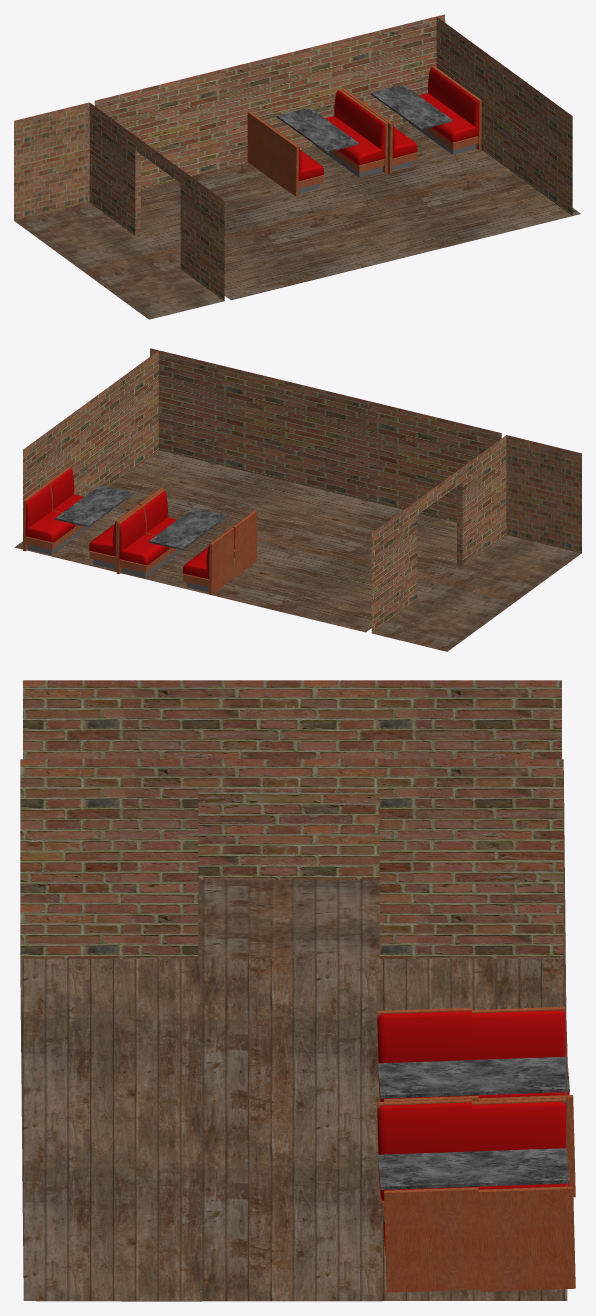
The model's file is room4.glb.
3 views of the same model, one above another, from view 1: azimuth 30°, elevation 25°; view 2: azimuth 150°, elevation 25°; view 3: azimuth 270°, elevation 25° (orthographic). The views are drawn at different scales.
Parts seen in each view (by area): view 1: Plane, Material2.001, Material2.066, Material2.055, Material2.010, Material2.057, Material2.064, Material2.007, Material2.060, Material2.009, Material2.058, Material2.012 (+2 smaller); view 2: Plane, Material2.060, Material2.007, Material2.001, Material2.066, Material2.064, Material2.055, Material2.057, Material2.010, Material2.006, Material2.061, Material2.063 (+2 smaller); view 3: Plane, Material2.006, Material2.009, Material2.001, Material2.066, Material2.013, Material2.054, Material2.004, Material2.063, Material2.061.
Boxes of the visible parts, x1,y1,x2,y2 form: Plane: (14, 14, 580, 319); Material2.001: (370, 84, 452, 129); Material2.066: (277, 107, 358, 152); Material2.055: (271, 129, 323, 196); Material2.010: (431, 83, 479, 142); Material2.057: (337, 106, 385, 165); Material2.064: (247, 111, 273, 178); Material2.007: (419, 67, 453, 111); Material2.060: (325, 90, 360, 134); Material2.009: (428, 82, 481, 149); Material2.058: (334, 105, 387, 172); Material2.012: (365, 106, 417, 173); Plane: (14, 348, 581, 651); Material2.060: (119, 508, 168, 565); Material2.007: (25, 485, 75, 542); Material2.001: (55, 485, 133, 527); Material2.066: (149, 507, 226, 549); Material2.064: (183, 527, 234, 594); Material2.055: (233, 510, 257, 577); Material2.057: (143, 491, 177, 548); Material2.010: (49, 468, 83, 526); Material2.006: (23, 484, 74, 551); Material2.061: (116, 506, 167, 573); Material2.063: (183, 528, 230, 579); Plane: (20, 680, 567, 1301); Material2.006: (478, 1186, 575, 1291); Material2.009: (384, 1187, 480, 1292); Material2.001: (378, 1148, 569, 1189); Material2.066: (378, 1056, 569, 1098); Material2.013: (377, 1102, 474, 1200); Material2.054: (377, 1011, 474, 1101); Material2.004: (471, 1102, 569, 1189); Material2.063: (471, 1010, 569, 1098); Material2.061: (478, 1095, 575, 1197).
Bounding box in the file's own units: 8.65 × 1.92 × 4.81.
10 materials, 6 textured.
